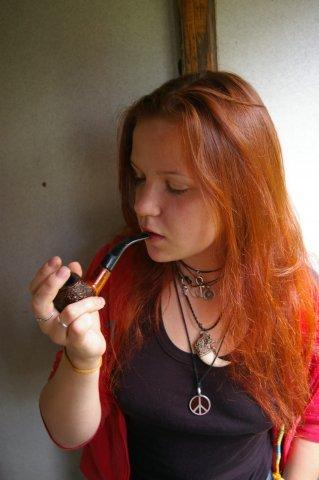trubka: (53, 233, 151, 312)
